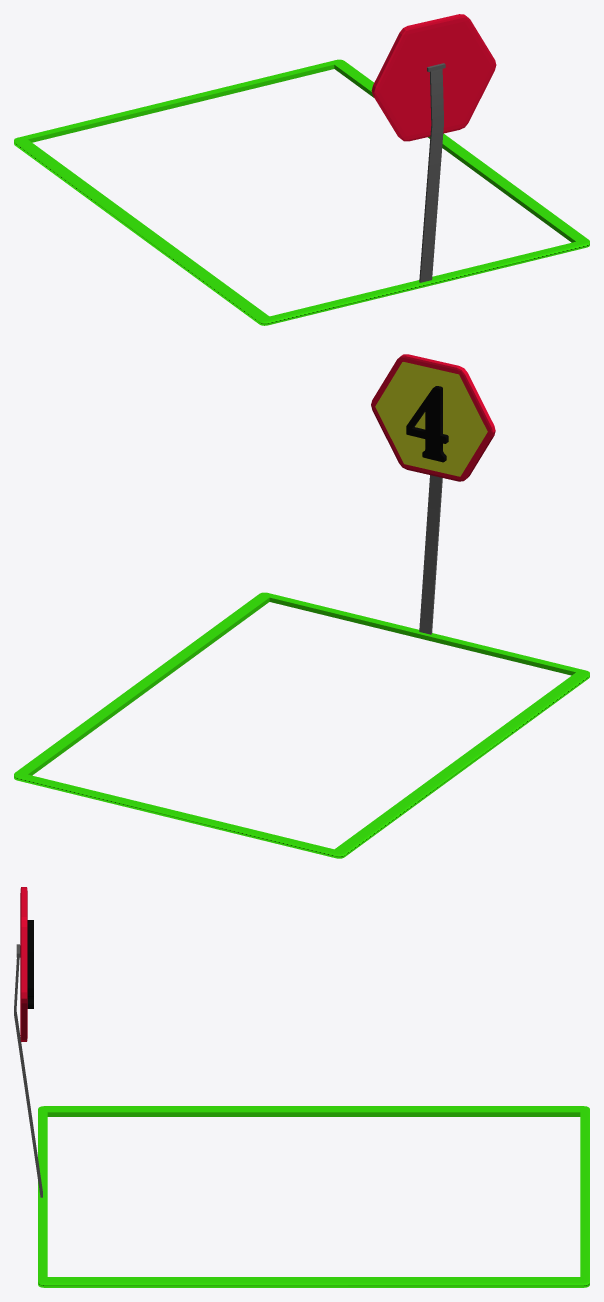
File: Four Parking.fbx
The picture shows the model from 3 angles, top to bottom: view 1: azimuth 30°, elevation 25°; view 2: azimuth 150°, elevation 25°; view 3: azimuth 270°, elevation 25°; orthographic projection. The views are drawn at different scales.
Visible parts, largest first — view 1: Cube, Cylinder; view 2: Cube, Cylinder.001, Cylinder, Text; view 3: Cube, Cylinder, Text.
Part boxes in pixels (x1=…): Cube: x1=14, y1=59, x2=589, y2=325; Cylinder: x1=371, y1=14, x2=496, y2=141; Cube: x1=14, y1=475, x2=589, y2=858; Cylinder.001: x1=375, y1=362, x2=487, y2=476; Cylinder: x1=371, y1=354, x2=495, y2=481; Text: x1=406, y1=386, x2=448, y2=462; Cube: x1=14, y1=944, x2=589, y2=1287; Cylinder: x1=20, y1=887, x2=27, y2=1041; Text: x1=27, y1=920, x2=33, y2=1008.
Size of the model in its own units: 316 by 248 by 435.
